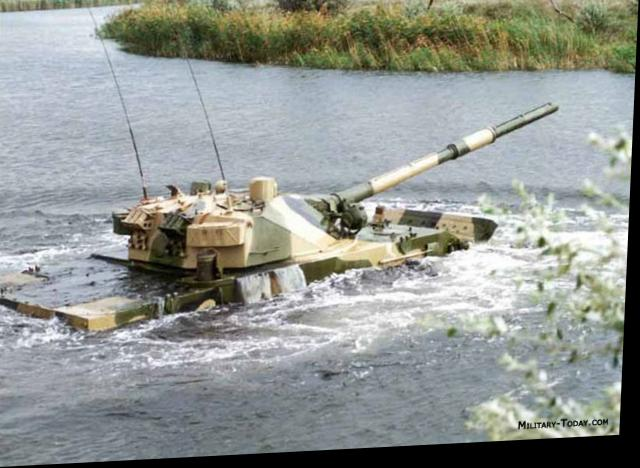tank: (0, 174, 499, 343)
